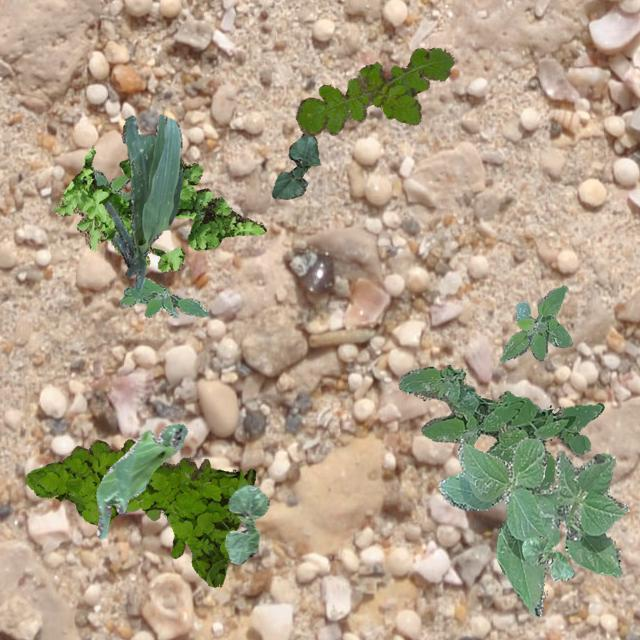crop: (437, 436, 628, 616), (104, 113, 182, 290), (96, 423, 186, 538), (224, 484, 268, 564), (270, 132, 318, 198), (520, 534, 574, 580)
weed: (24, 438, 254, 586), (54, 148, 266, 272), (398, 364, 602, 488), (294, 46, 452, 136), (499, 284, 572, 360), (120, 276, 208, 316), (92, 168, 130, 200), (124, 496, 160, 520)
